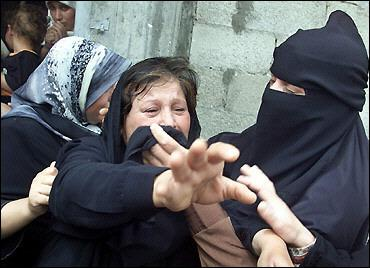NONE: (123, 94, 192, 163), (52, 2, 75, 28)
OK: (263, 74, 318, 135)
